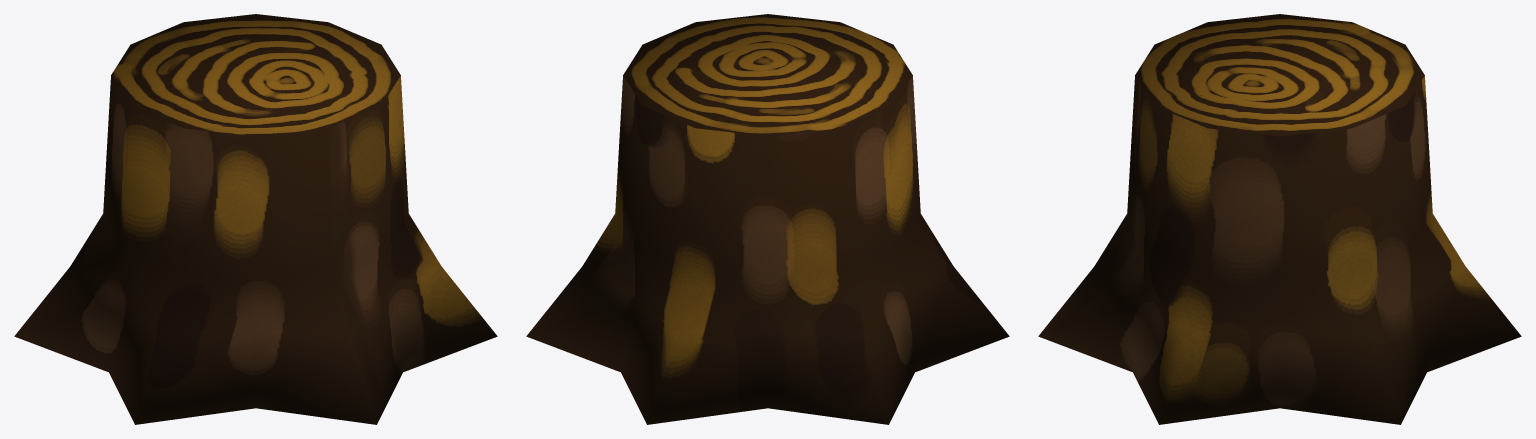
The model's file is صنوبر_مقطوع.glb.
3 renders of one model, left to right at view 1: azimuth 30°, elevation 25°; view 2: azimuth 150°, elevation 25°; view 3: azimuth 270°, elevation 25°, orthographic.
Visible parts, largest first — view 1: Root; view 2: Root; view 3: Root.
Part boxes in pixels (x1,y1,x2,y2): Root: (14, 14, 497, 424); Root: (526, 14, 1009, 424); Root: (1038, 14, 1521, 424).
Size of the model in its own units: 2.74 by 1.89 by 3.17.
Materials: 1 (1 with a texture image).
